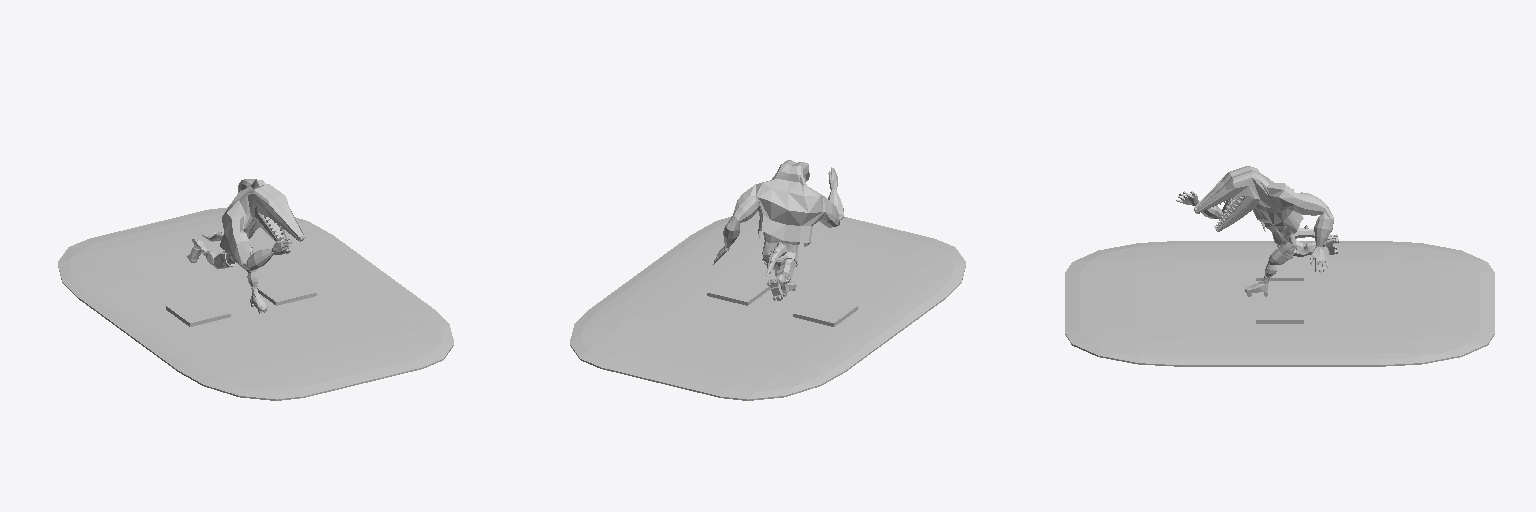
The model's file is Cocrodile_correr_000068.obj.
3 views of the same model, side by side, from view 1: azimuth 30°, elevation 25°; view 2: azimuth 150°, elevation 25°; view 3: azimuth 270°, elevation 25° (orthographic).
Visible parts, largest first — view 1: Mball, Crocodile.002_Cylinder.002, Cube, Cube.001; view 2: Mball, Crocodile.002_Cylinder.002, Cube, Cube.001; view 3: Mball, Crocodile.002_Cylinder.002, Cube.001, Cube.
Boxes of the visible parts, <box> form: Mball: <box>58,207,453,400</box>; Crocodile.002_Cylinder.002: <box>187,179,304,313</box>; Cube: <box>166,296,230,326</box>; Cube.001: <box>257,275,316,305</box>; Mball: <box>570,211,965,400</box>; Crocodile.002_Cylinder.002: <box>713,160,844,300</box>; Cube: <box>793,296,857,326</box>; Cube.001: <box>707,275,770,305</box>; Mball: <box>1065,241,1494,366</box>; Crocodile.002_Cylinder.002: <box>1176,166,1338,296</box>; Cube.001: <box>1256,300,1303,323</box>; Cube: <box>1256,258,1303,280</box>.
Bounding box in the file's own units: 12.42 × 7.7 × 18.18.